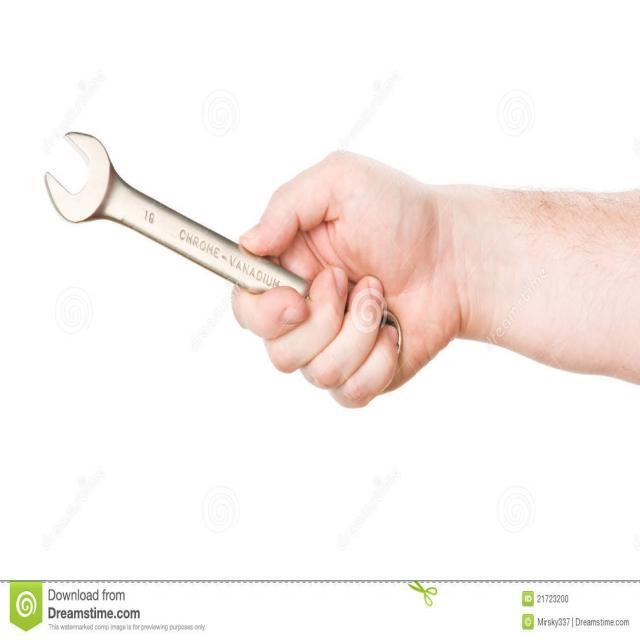wrench: (41, 125, 402, 358)
